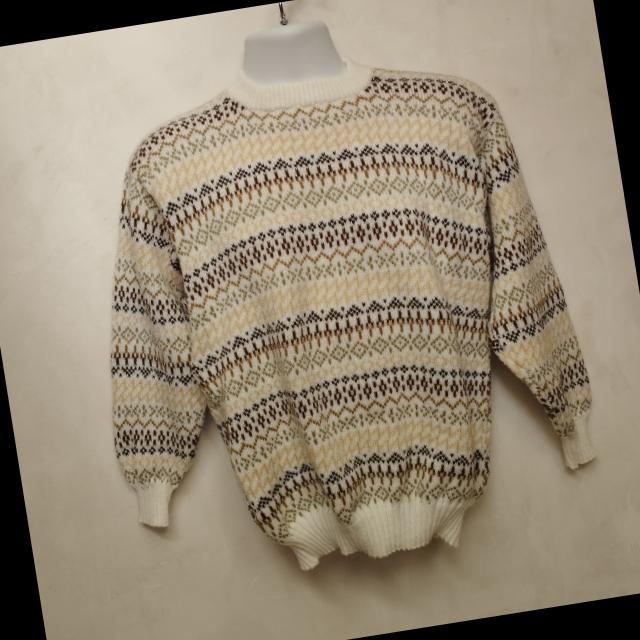Chompa: (53, 0, 614, 600)
